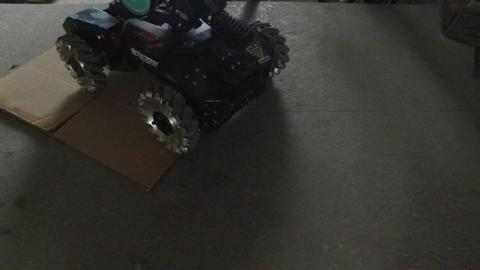chariot: (48, 11, 293, 160)
